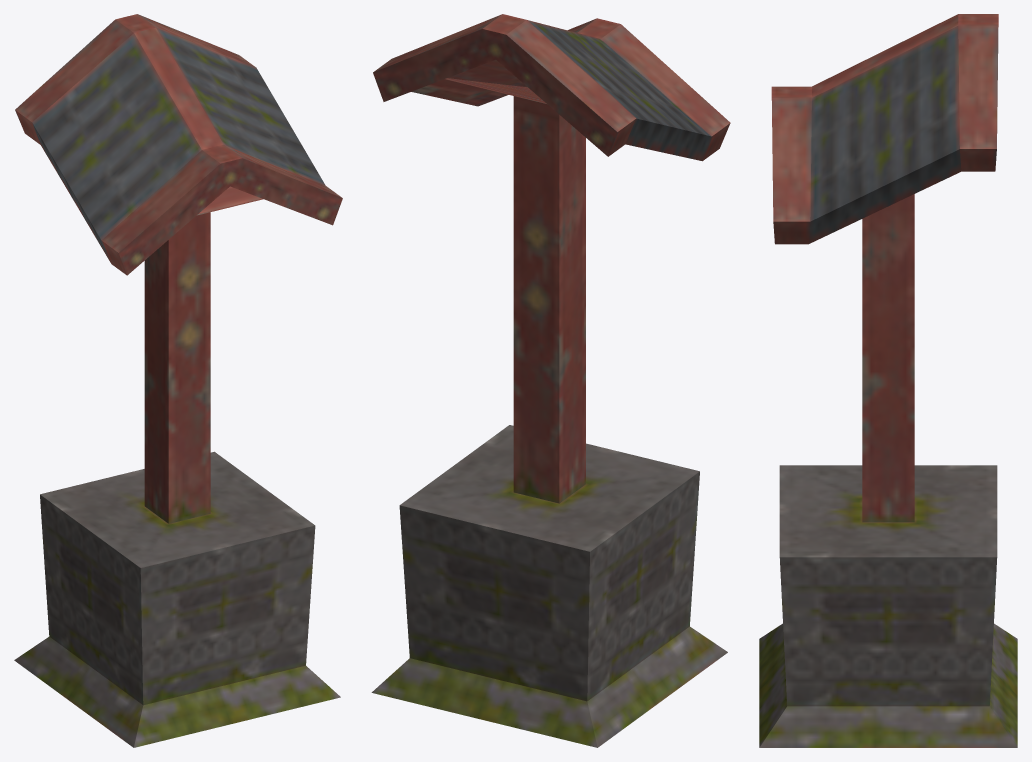
Rendered from b_zx_yuanmen02_lod2.FBX.
The picture shows the model from 3 angles, left to right: view 1: azimuth 30°, elevation 25°; view 2: azimuth 150°, elevation 25°; view 3: azimuth 270°, elevation 25°; orthographic projection. The views are drawn at different scales.
Parts seen in each view (by area): view 1: b_zx_yuanmen02_lod2; view 2: b_zx_yuanmen02_lod2; view 3: b_zx_yuanmen02_lod2.
Part boxes in pixels (<box>): b_zx_yuanmen02_lod2: <box>14,14,342,747</box>; b_zx_yuanmen02_lod2: <box>371,14,730,747</box>; b_zx_yuanmen02_lod2: <box>759,14,1017,747</box>.
Bounding box in the file's own units: 1.92 × 5.1 × 1.77.
